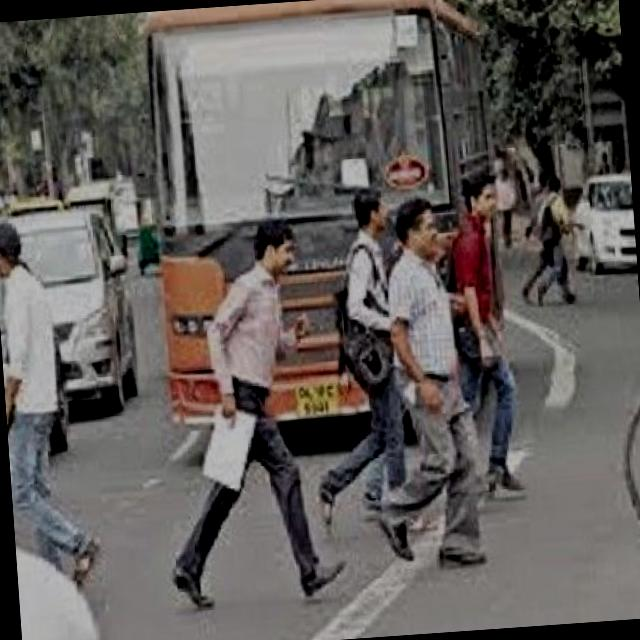Person: (146, 206, 341, 620), (356, 182, 490, 566), (290, 168, 420, 542), (0, 207, 105, 594), (451, 172, 538, 503)
